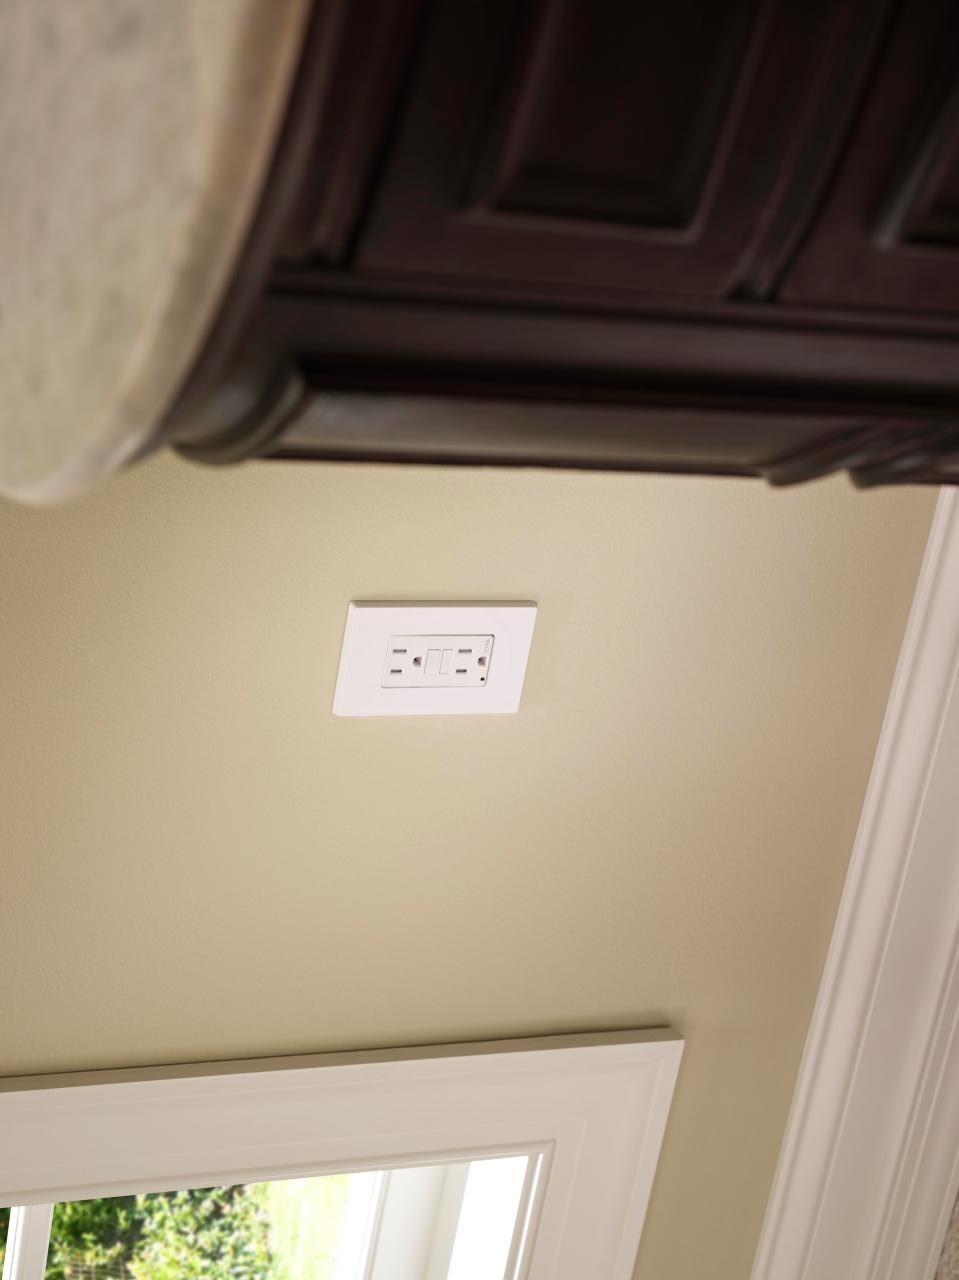outlet: (384, 643, 426, 678), (452, 641, 490, 679)
